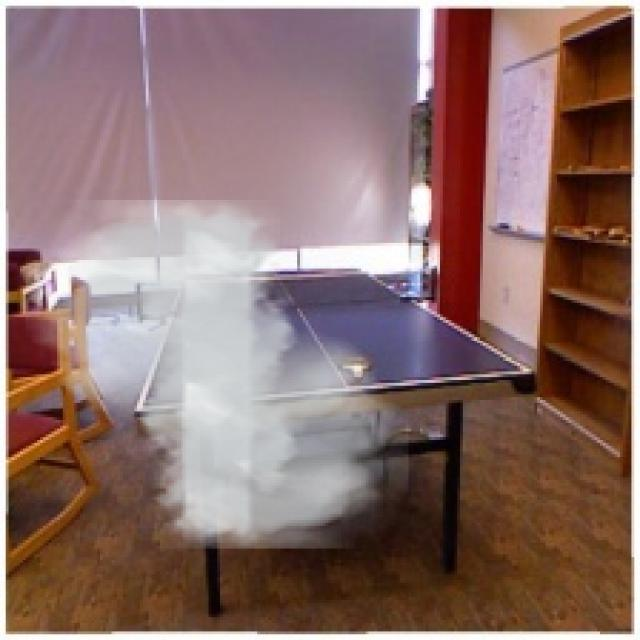smoke: (26, 200, 408, 549)
